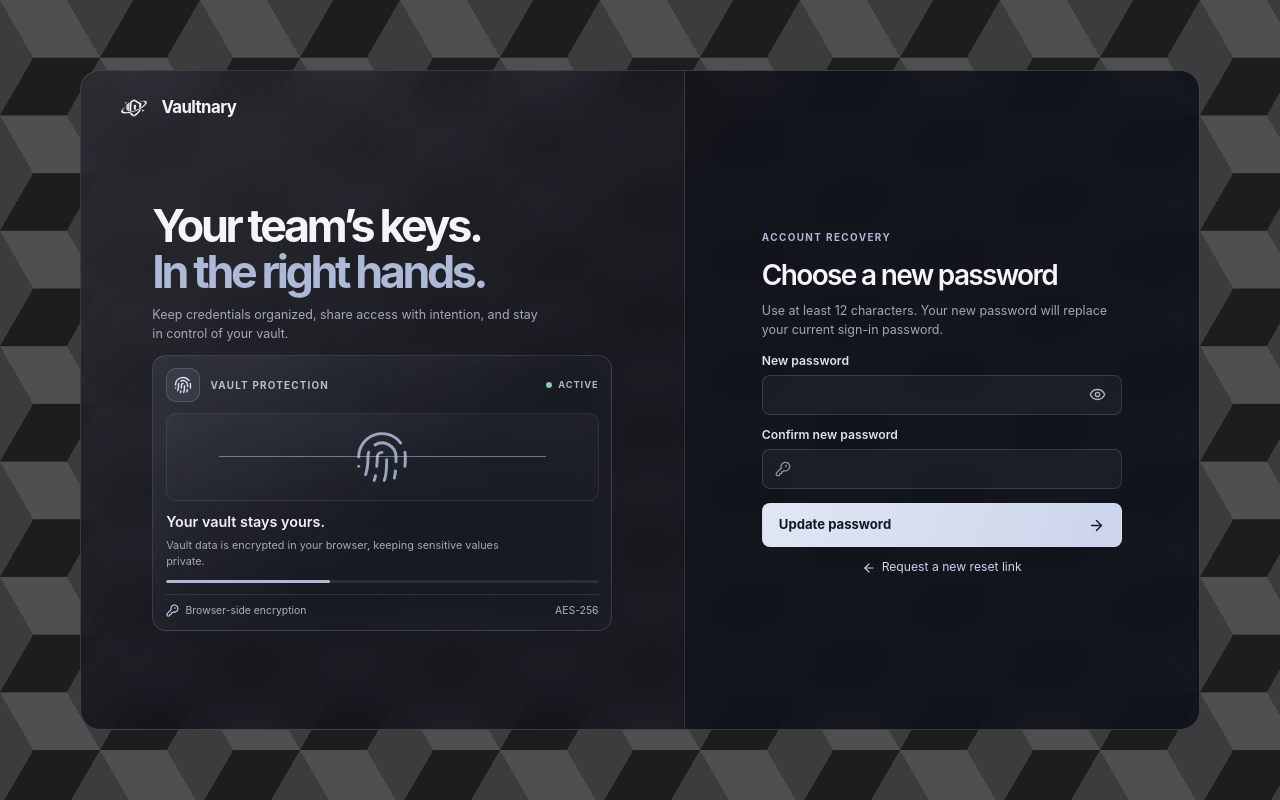
it: ResetPasswordPage › does not submit when passwords do not match
This screenshot has width=1280, height=800.
Type "correct-horse-battery" into the password field labelled "New password" at (942, 395), box [762,375,1122,415]
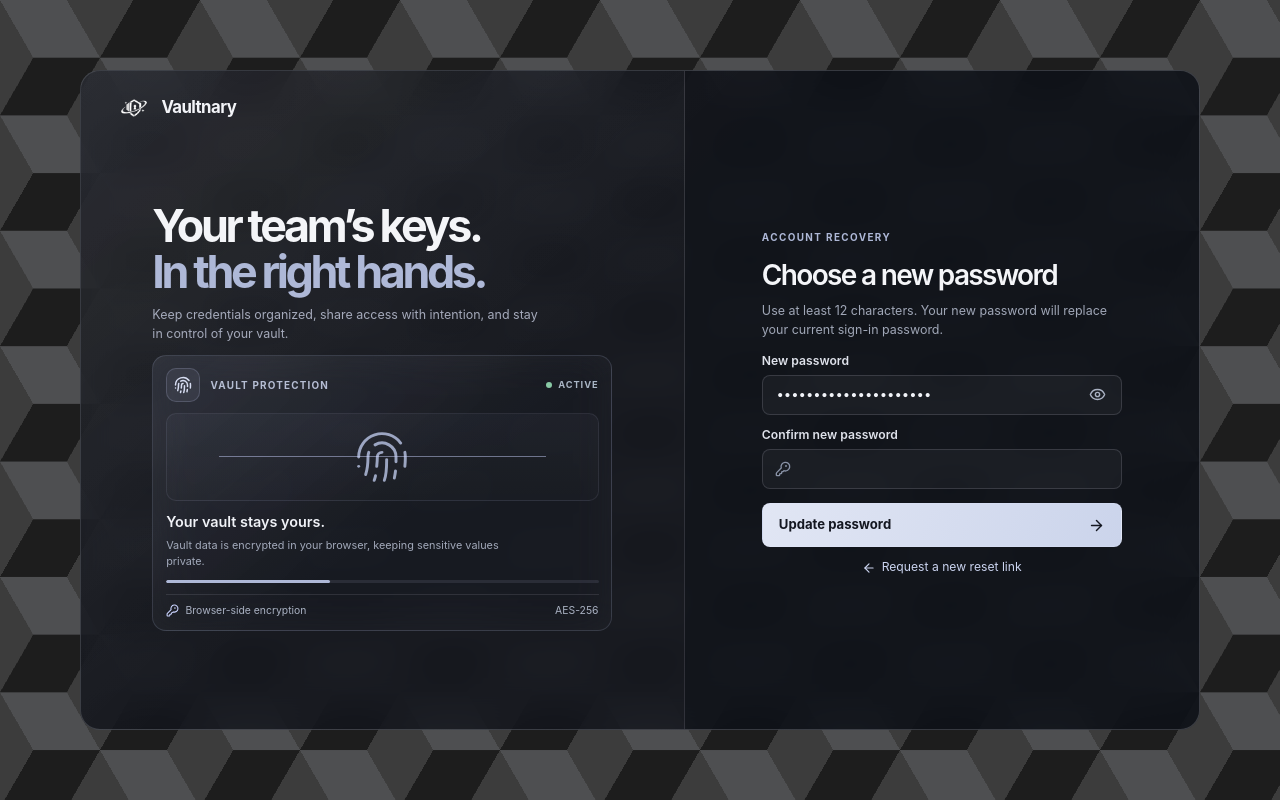
Type "different-password-value" into the password field labelled "Confirm new password" at (942, 469), box [762,449,1122,489]
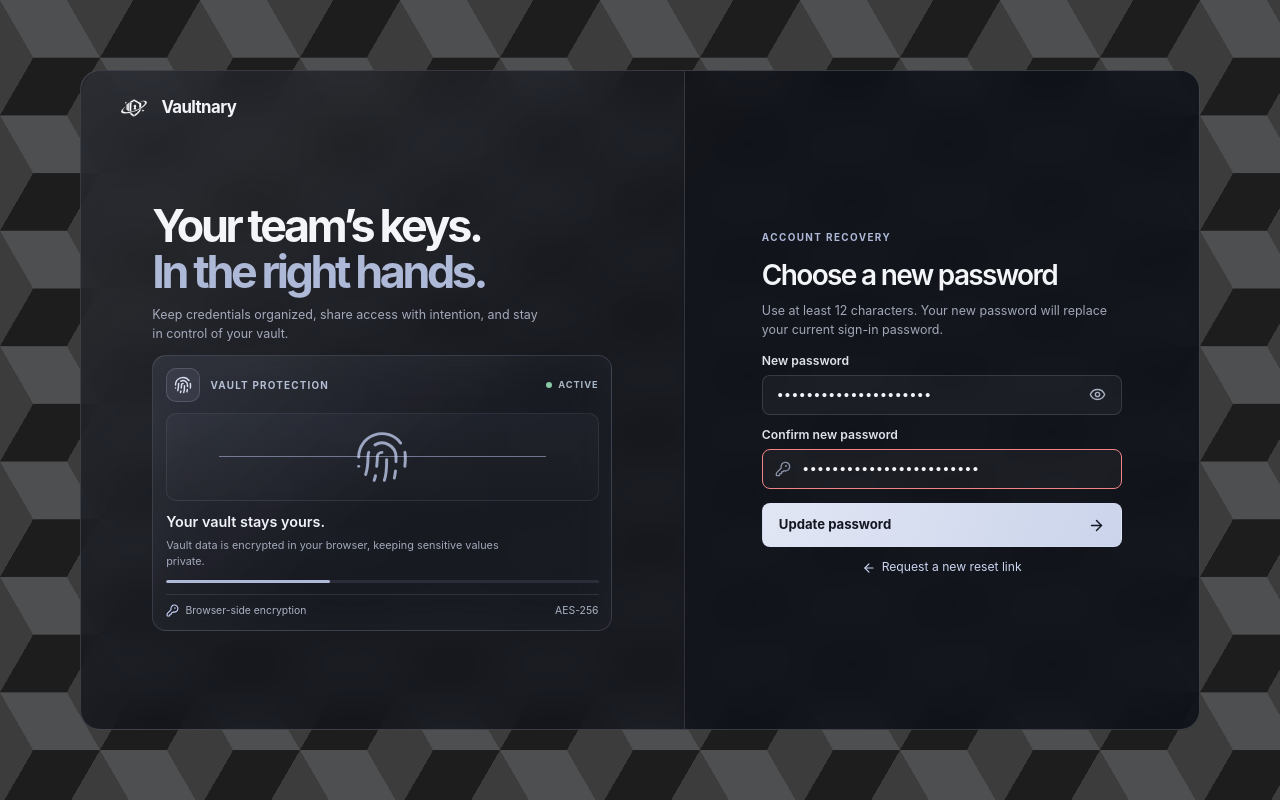
Click the button "Update password" at (835, 524), box [762,503,1122,547]
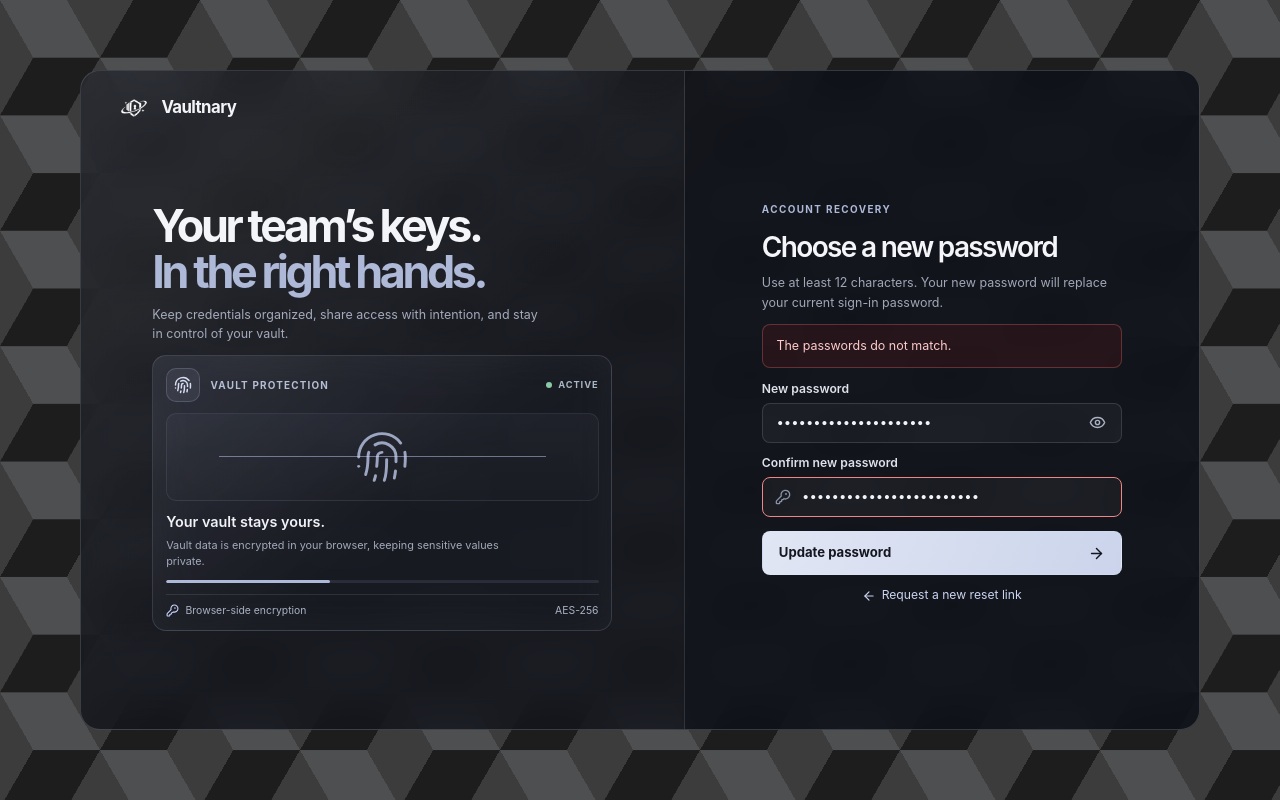
Check: the message reads "The passwords do not match.", box [776,338,951,353]
